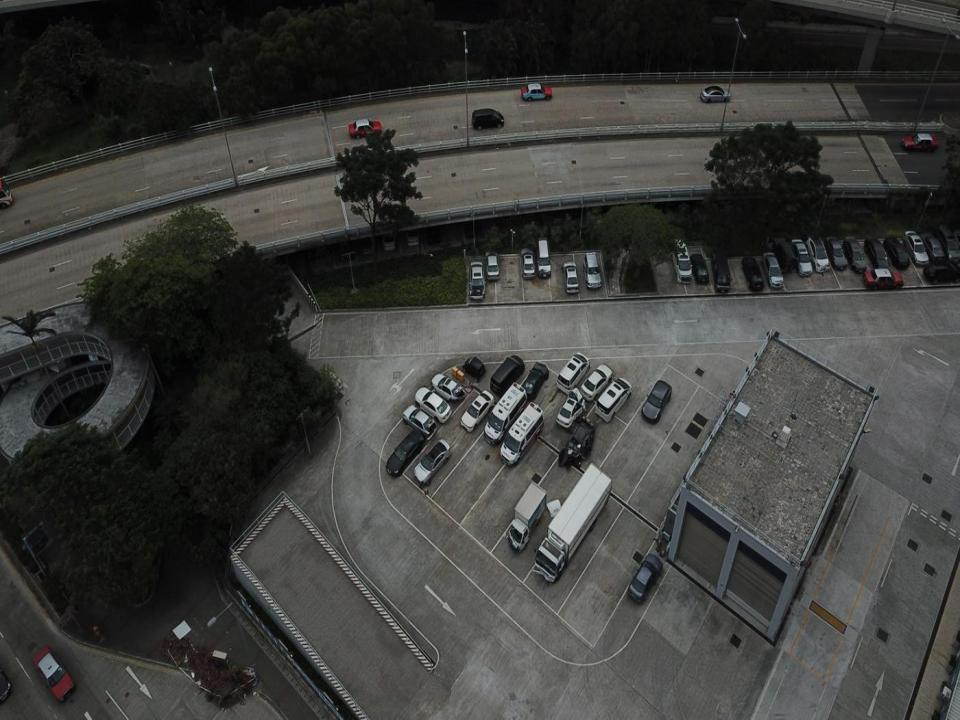car: (32, 645, 74, 703), (626, 552, 665, 603), (557, 417, 596, 468), (413, 438, 452, 484), (386, 428, 422, 476), (595, 377, 633, 422), (459, 388, 494, 432), (640, 379, 673, 424), (415, 385, 452, 424), (490, 356, 525, 396), (554, 386, 586, 428), (582, 365, 613, 402), (401, 404, 436, 436), (559, 350, 585, 393), (522, 359, 548, 401), (431, 373, 465, 404), (862, 266, 904, 290), (884, 234, 910, 272), (904, 228, 930, 264), (791, 235, 813, 277), (844, 233, 867, 273), (900, 130, 938, 154), (863, 236, 889, 271), (805, 234, 828, 273), (739, 255, 764, 290), (347, 116, 382, 140), (922, 261, 955, 286), (771, 235, 794, 270), (763, 248, 783, 288), (827, 234, 848, 270), (583, 250, 602, 289), (712, 253, 730, 292), (520, 82, 552, 103), (468, 261, 485, 299), (536, 238, 552, 277), (689, 252, 709, 283), (925, 232, 946, 261), (700, 84, 730, 104), (561, 261, 578, 294), (519, 245, 535, 280), (378, 227, 398, 254), (484, 248, 501, 278), (404, 221, 420, 250), (358, 231, 374, 260)
truck: (532, 461, 612, 585), (504, 479, 548, 552), (498, 401, 544, 468), (484, 382, 526, 444)
van: (672, 239, 692, 285), (471, 107, 505, 131)
